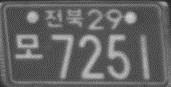1: (138, 33, 151, 81)
2: (78, 33, 104, 80), (87, 7, 104, 30)
5: (106, 33, 131, 80)
7: (49, 32, 73, 80)
9: (105, 7, 122, 30)
모: (14, 32, 44, 61)
전북_O: (43, 8, 84, 28)
